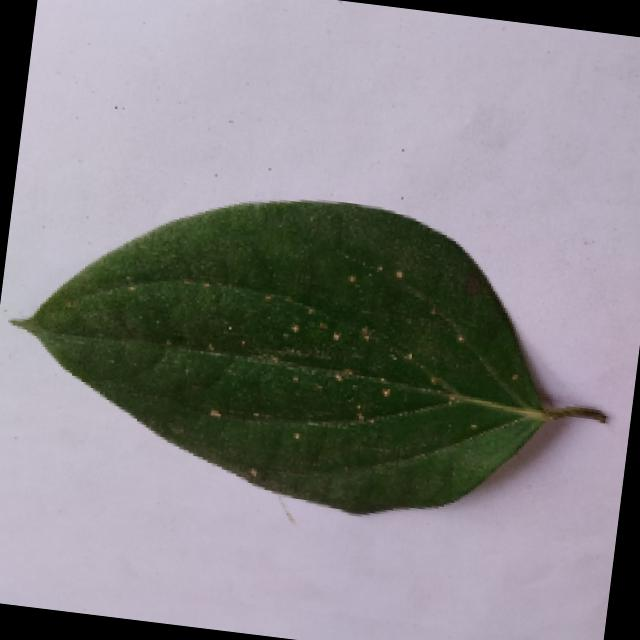pollu-disease: (0, 168, 629, 545)
